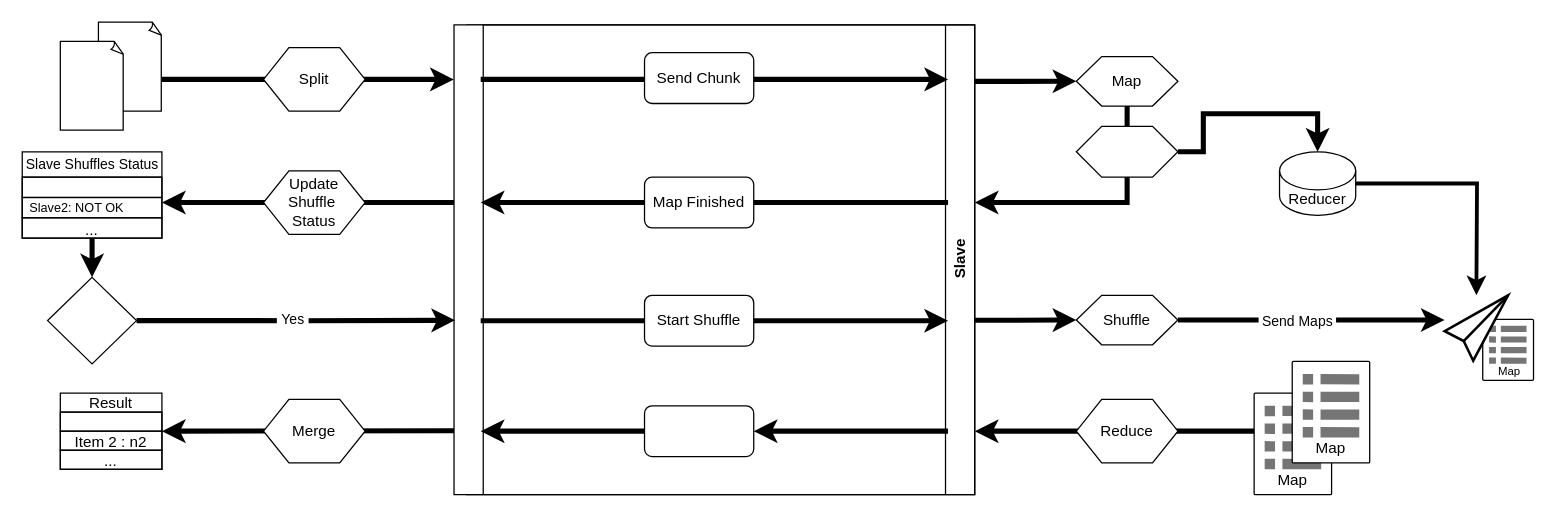
Some shapes in this 1556 by 517 pixel diagram are drawn without their labels. The centre of each missing label's shape, as x and y in pixels:
All Shuffles OK?: the point at 91,320
Choose Reducer: the point at 1126,151
Item 1 : n1: the point at 110,421
Master: the point at 714,259
Send Reduced: the point at 698,430
Slave1: OK: the point at 91,186
